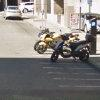Motorcycle: (32, 25, 94, 67)
